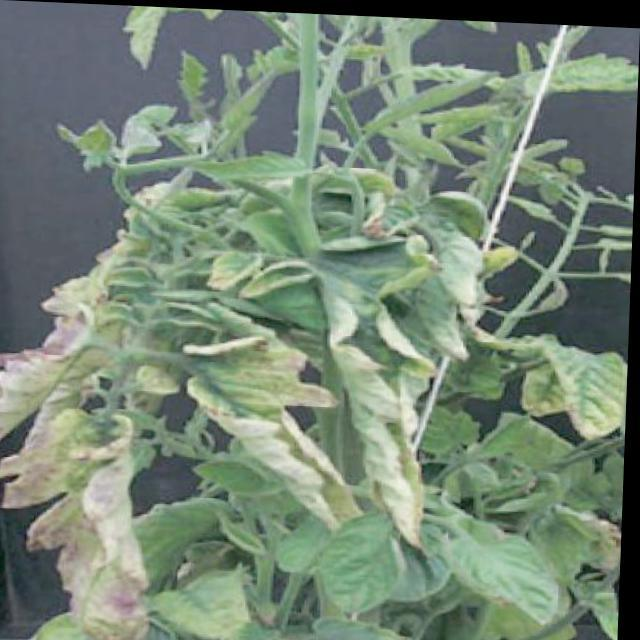Tomato healthy leaf: (187, 335, 373, 527), (530, 315, 630, 456), (454, 498, 566, 620), (314, 502, 416, 616), (513, 39, 638, 110), (161, 566, 271, 639)
